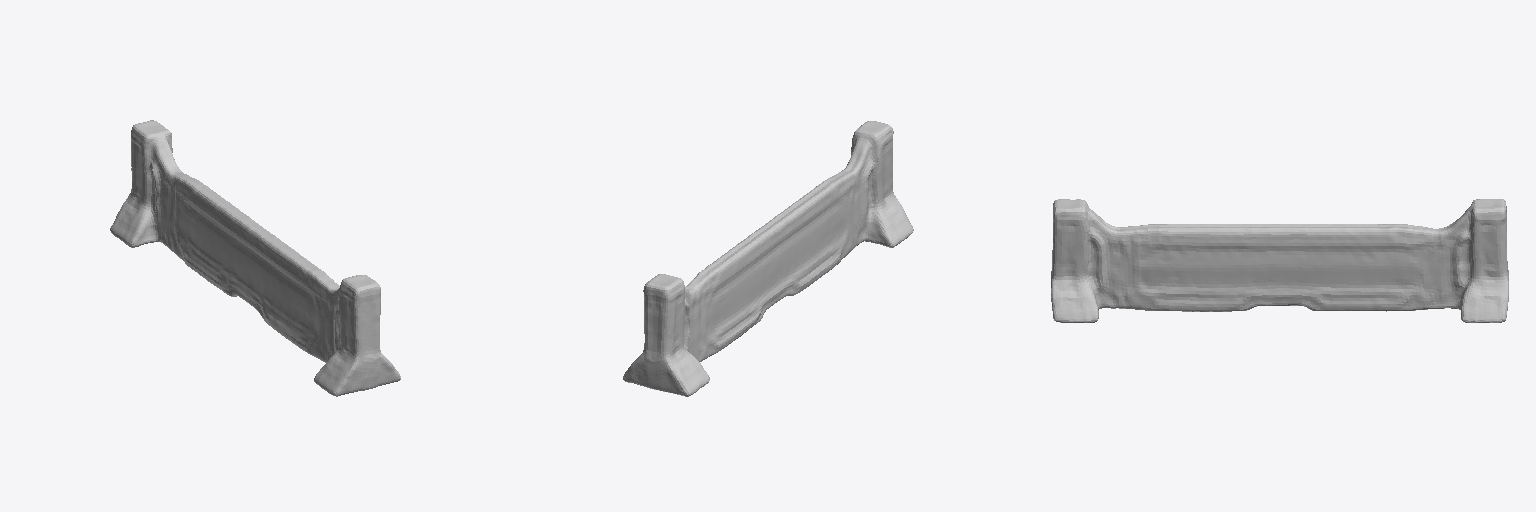
The model's file is c547967a1739_a_sci_fi_barrier_mi.obj.
3 views of the same model, side by side, from view 1: azimuth 30°, elevation 25°; view 2: azimuth 150°, elevation 25°; view 3: azimuth 270°, elevation 25° (orthographic).
Parts seen in each view (by area): view 1: mesh; view 2: mesh; view 3: mesh.
Boxes of the visible parts, <box> form: mesh: <box>110,120,400,396</box>; mesh: <box>623,121,913,396</box>; mesh: <box>1051,199,1508,322</box>.
Size of the model in its own units: 0.1744 by 0.2524 by 0.9995.